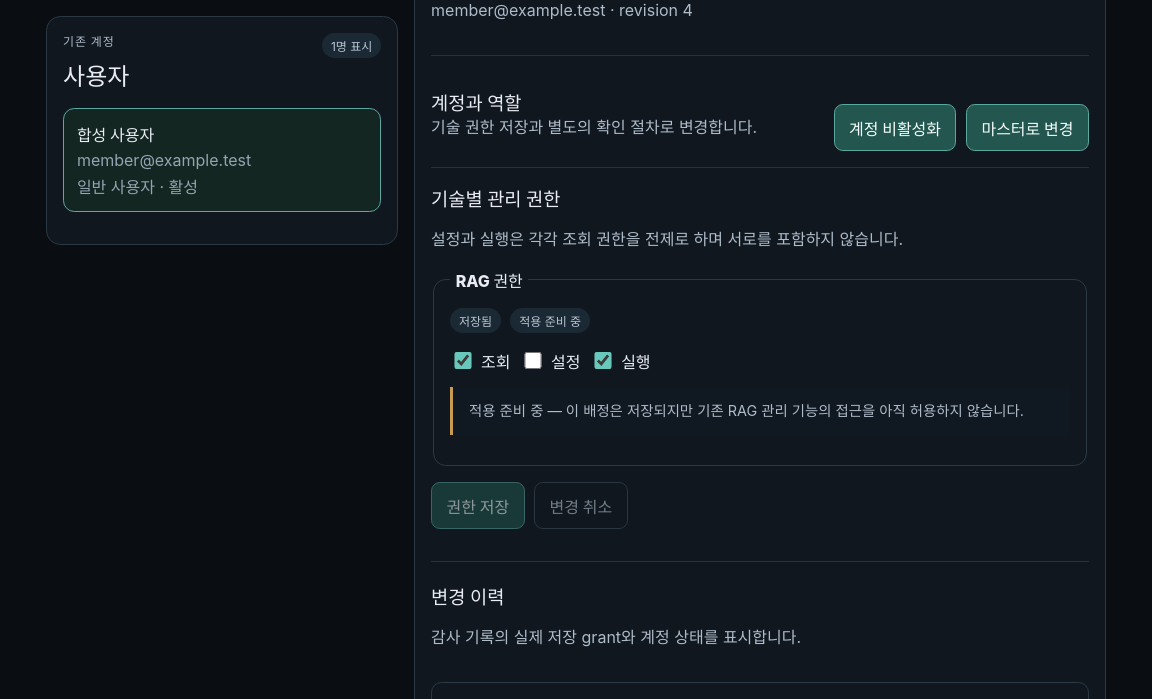
Test: does not auto-save, confirms before submission, and reports success only after refreshing actual detail and audit
This screenshot has width=1152, height=699.
(page scrolled)
Click the checkbox labelled "설정": x=533, y=361 [524,352,542,370]
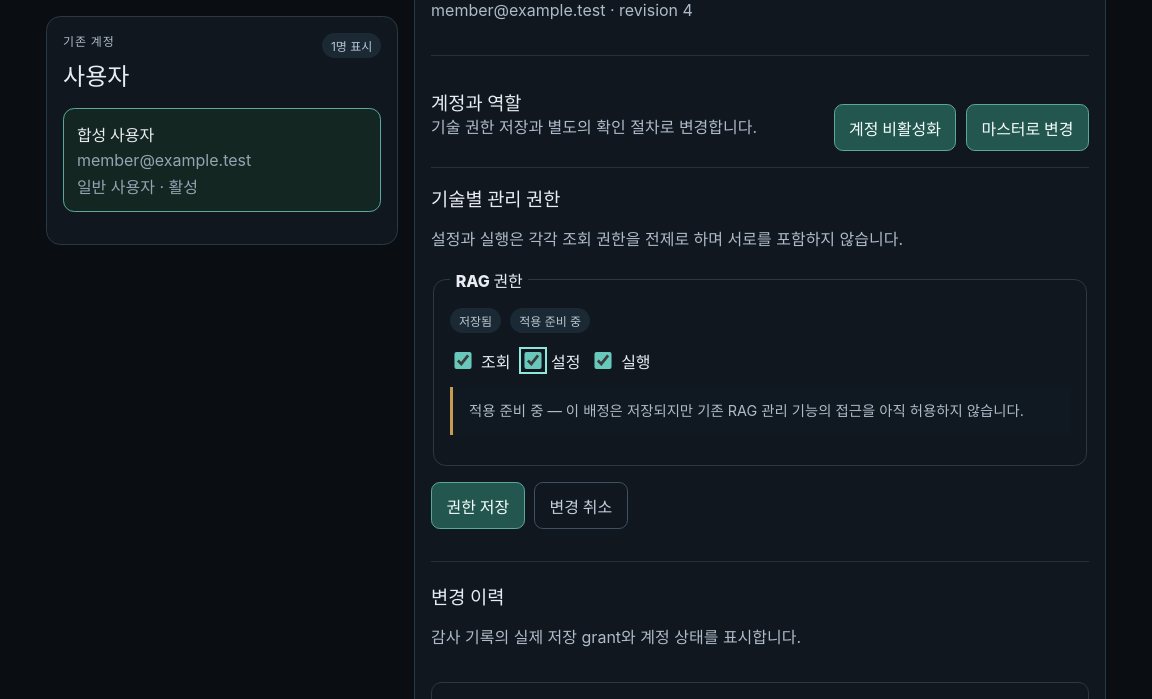
Click the button "권한 저장": x=478, y=506 [431,482,525,529]
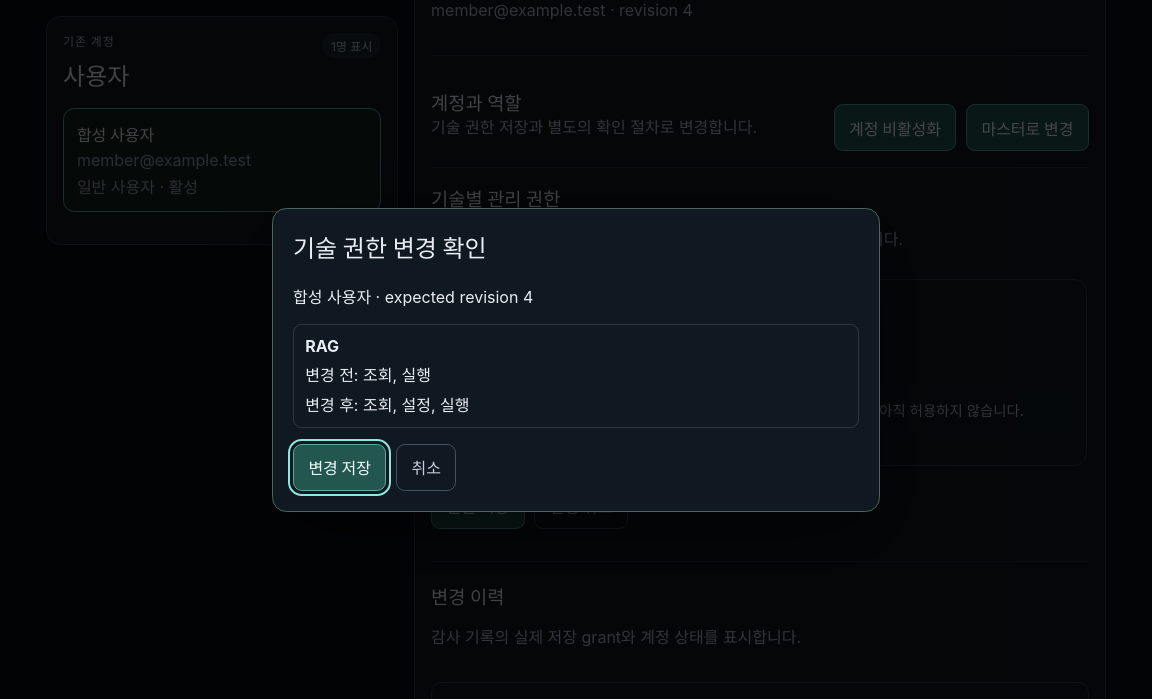
Expected: the text "변경 전: 조회, 실행" is shown, [305,365,431,385]
Expected: the text "변경 후: 조회, 설정, 실행" is shown, [305,395,470,415]
Click the button "변경 저장": x=340, y=467 [293,444,386,491]
(page scrolled)
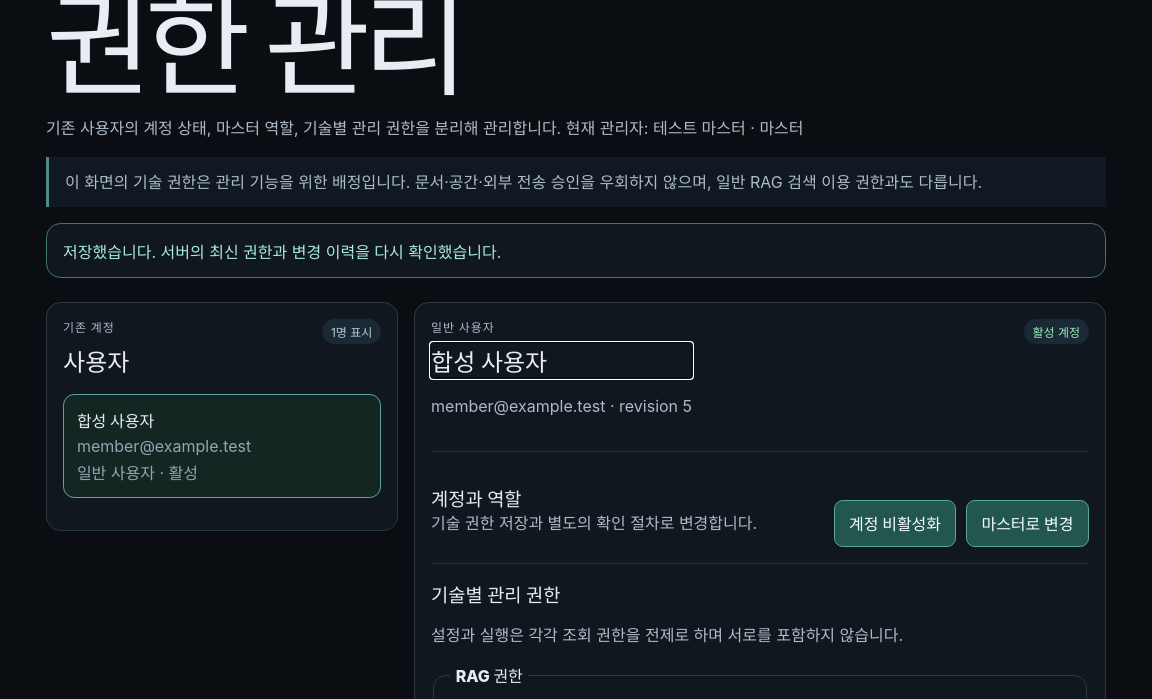
Expected: the message shows "저장했습니다", [63,242,501,262]
